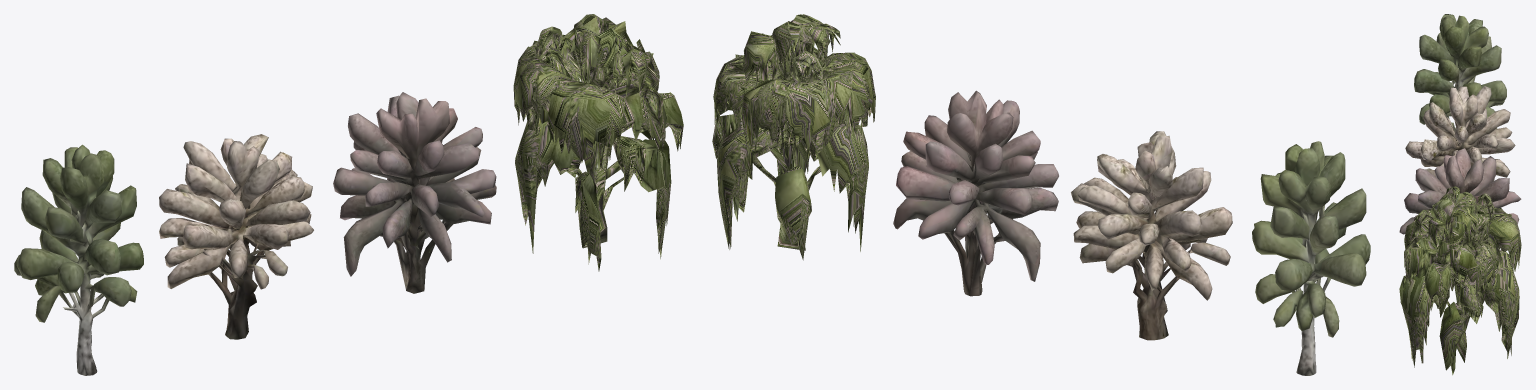
Rendered from trees_special.glb.
3 renders of one model, left to right at view 1: azimuth 30°, elevation 25°; view 2: azimuth 150°, elevation 25°; view 3: azimuth 270°, elevation 25°, orthographic. The views are drawn at different scales.
Parts seen in each view (by area): view 1: willow, tamarisk, almond, birch; view 2: willow, tamarisk, almond, birch; view 3: willow, birch, almond, tamarisk.
Part boxes in pixels (x1,y1,x2,y2): willow: (513,14,683,271); tamarisk: (333,92,496,293); almond: (159,134,313,339); birch: (14,144,143,375); willow: (712,14,875,260); tamarisk: (893,90,1058,296); almond: (1071,131,1232,340); birch: (1252,141,1370,375); willow: (1399,186,1521,375); birch: (1414,14,1506,130); almond: (1405,86,1515,181); tamarisk: (1399,148,1521,242).
Size of the model in its own units: 1.11 by 0.3739 by 0.2529.
1 material, 1 textured.
